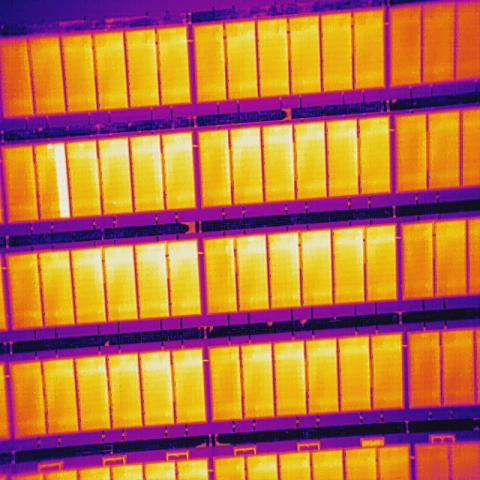fault: (55, 143, 70, 217)
